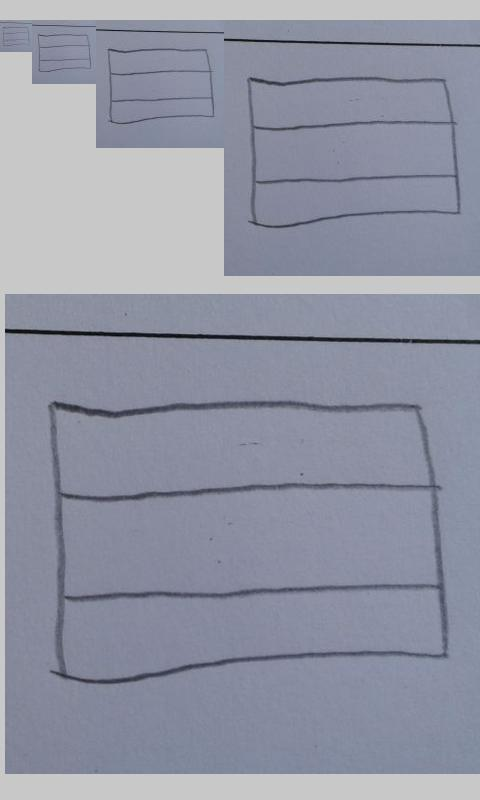list_view: (47, 395, 450, 686), (246, 72, 464, 230), (107, 48, 215, 126), (37, 33, 92, 73), (2, 26, 30, 46)
